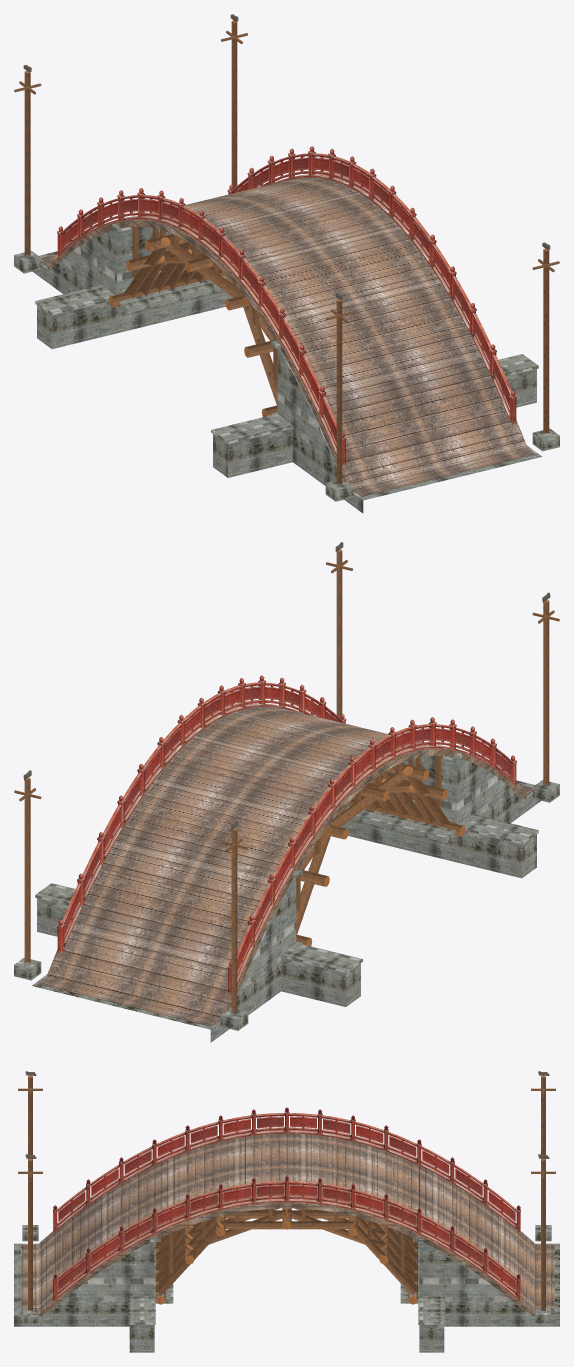
File: qm_bridge_lo.glb
3 views of the same model, one above another, from view 1: azimuth 30°, elevation 25°; view 2: azimuth 150°, elevation 25°; view 3: azimuth 270°, elevation 25° (orthographic). The views are drawn at different scales.
Parts seen in each view (by area): view 1: plank, stone, rail_a, rail_b, post, stonetop, log, timber; view 2: plank, stone, rail_a, post, rail_b, stonetop, log, timber; view 3: plank, stone, rail_a, rail_b, log, stonetop, timber, post, endgrain.
Part boxes in pixels (x1,y1,x2,y2): plank: (41, 177, 535, 496); stone: (33, 226, 542, 513); rail_a: (57, 146, 516, 465); rail_b: (78, 153, 511, 455); post: (14, 22, 559, 483); stonetop: (14, 224, 559, 501); log: (111, 234, 277, 415); timber: (47, 219, 526, 482); plank: (37, 706, 532, 1026); stone: (32, 756, 540, 1042); rail_a: (57, 675, 516, 994); post: (14, 551, 559, 1013); rail_b: (82, 682, 515, 945); stonetop: (14, 753, 559, 1030); log: (296, 763, 463, 945); timber: (47, 749, 526, 1011); plank: (21, 1133, 554, 1314); stone: (14, 1242, 559, 1352); rail_a: (53, 1107, 520, 1301); rail_b: (55, 1113, 485, 1299); log: (155, 1208, 418, 1299); stonetop: (22, 1225, 551, 1324); timber: (38, 1134, 535, 1315); post: (18, 1077, 555, 1310); endgrain: (28, 1075, 545, 1304).
Bounding box in the file's own units: 14.3 × 9.47 × 26.4.
10 materials, 9 textured.
